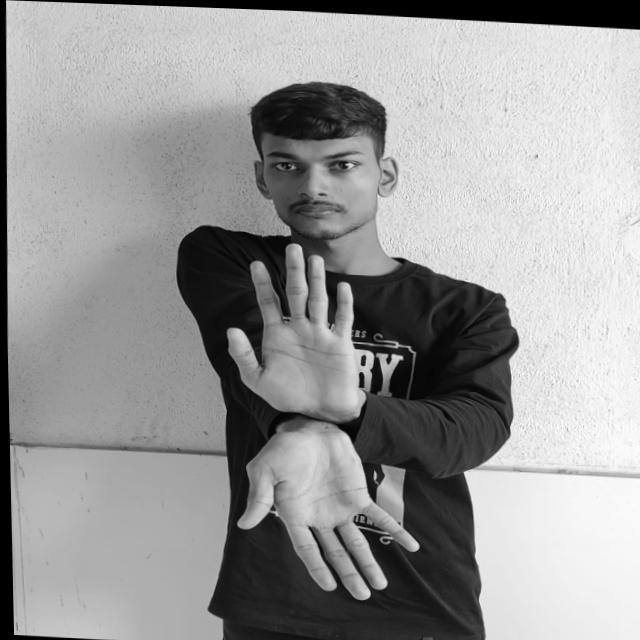Morning: (216, 236, 429, 601)
